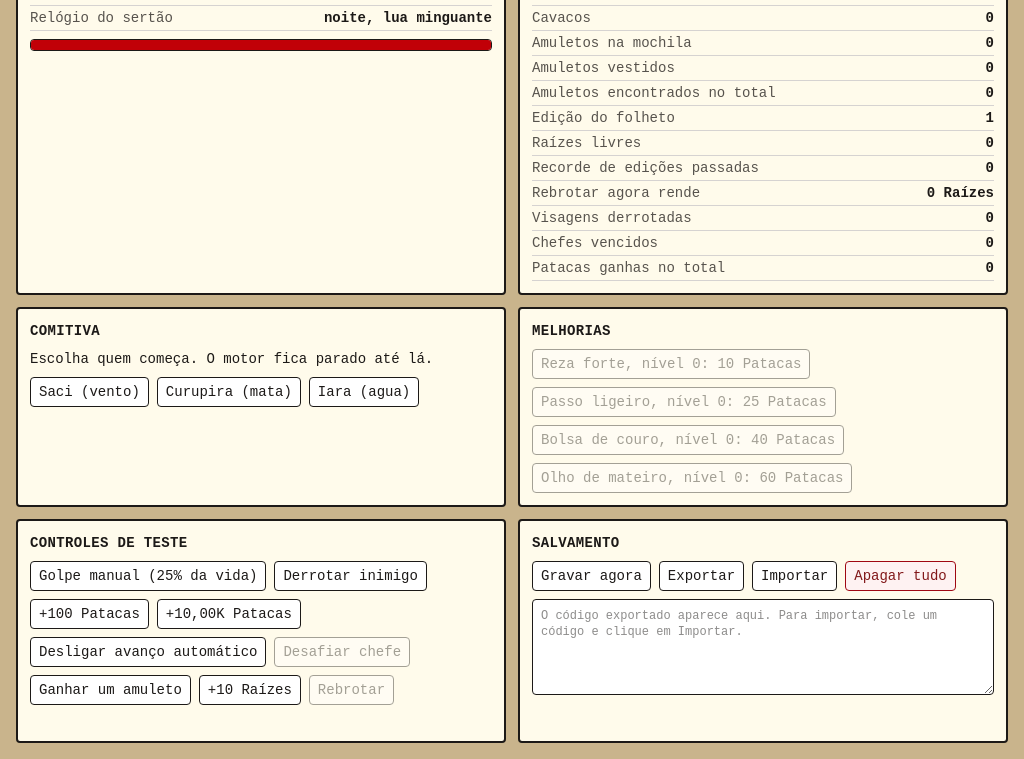
it: painel de debug › atualiza o contador de ticks e as métricas a cada tick
(page scrolled)
Click the button "Saci (vento)": point(89, 392) [30,377,149,407]
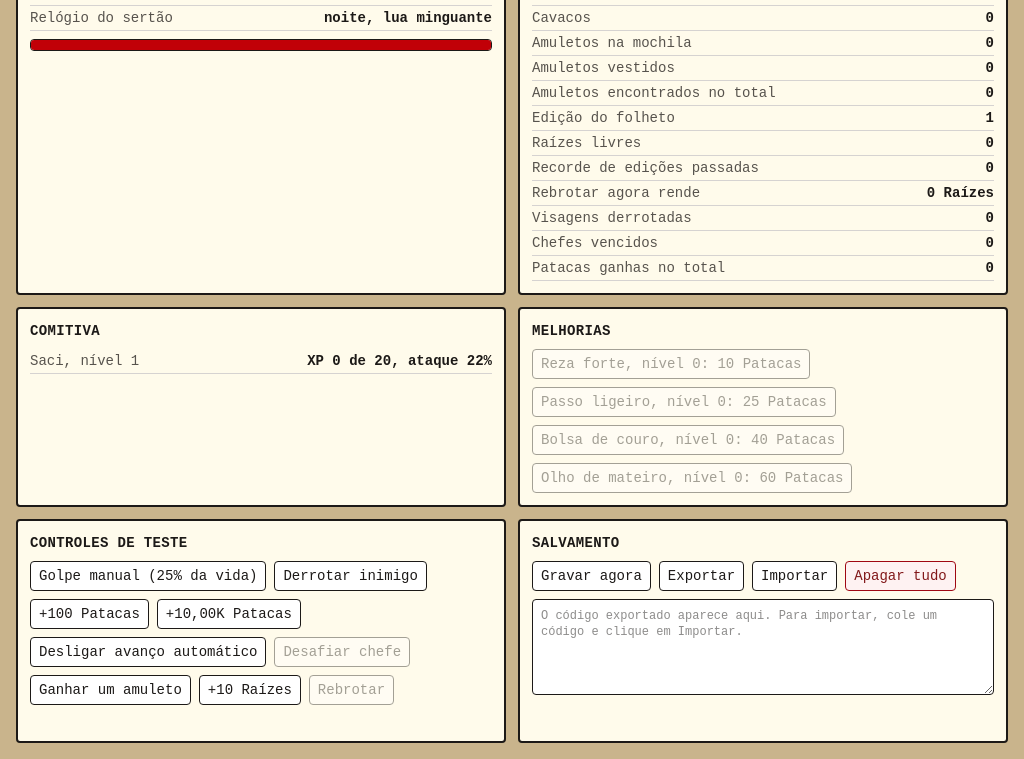
Now the text "Saci, nível 1" is shown, box [30,351,139,371]
